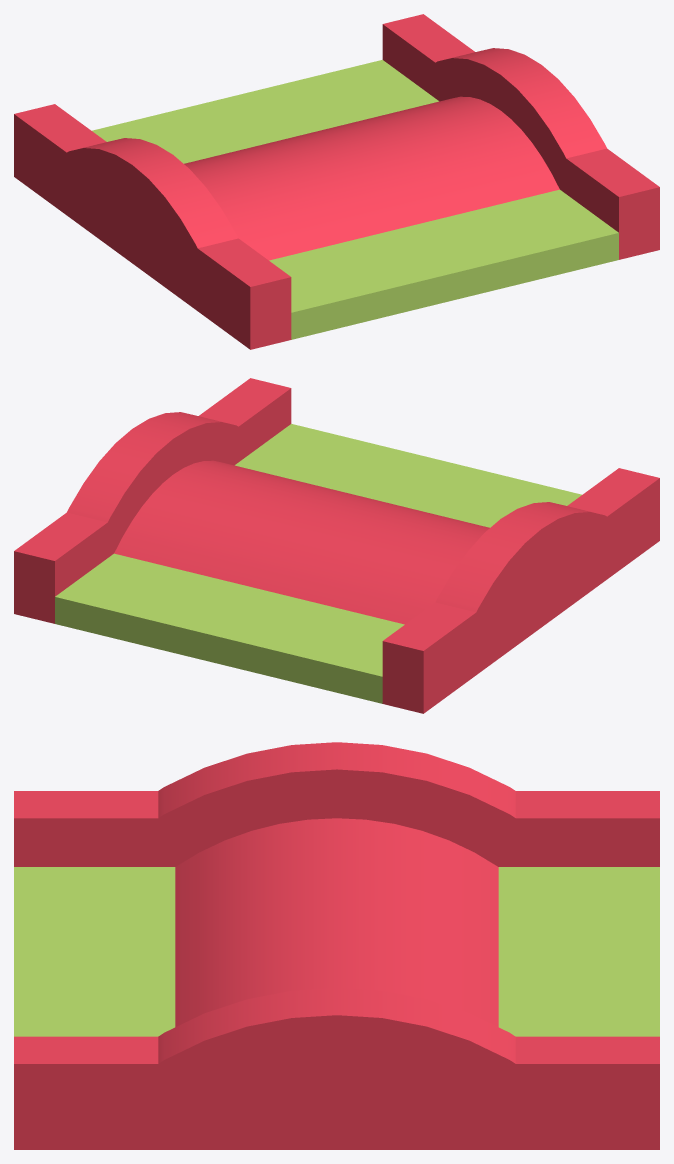
The model's file is hillRound.fbx.
3 views of the same model, one above another, from view 1: azimuth 30°, elevation 25°; view 2: azimuth 150°, elevation 25°; view 3: azimuth 270°, elevation 25° (orthographic). The views are drawn at different scales.
Visible parts, largest first — view 1: hillRound; view 2: hillRound; view 3: hillRound.
Boxes of the visible parts, <box> form: hillRound: <box>14,14,659,349</box>; hillRound: <box>14,378,659,713</box>; hillRound: <box>14,742,659,1149</box>.
Size of the model in its own units: 10 by 2.3 by 10.
